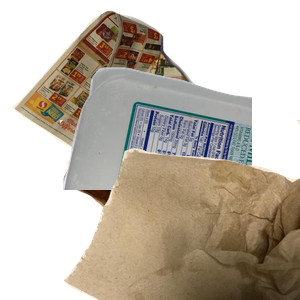glass: (60, 166, 241, 300)
paper: (10, 10, 217, 189)
plastic: (60, 65, 300, 245)
trash: (60, 120, 300, 300)
